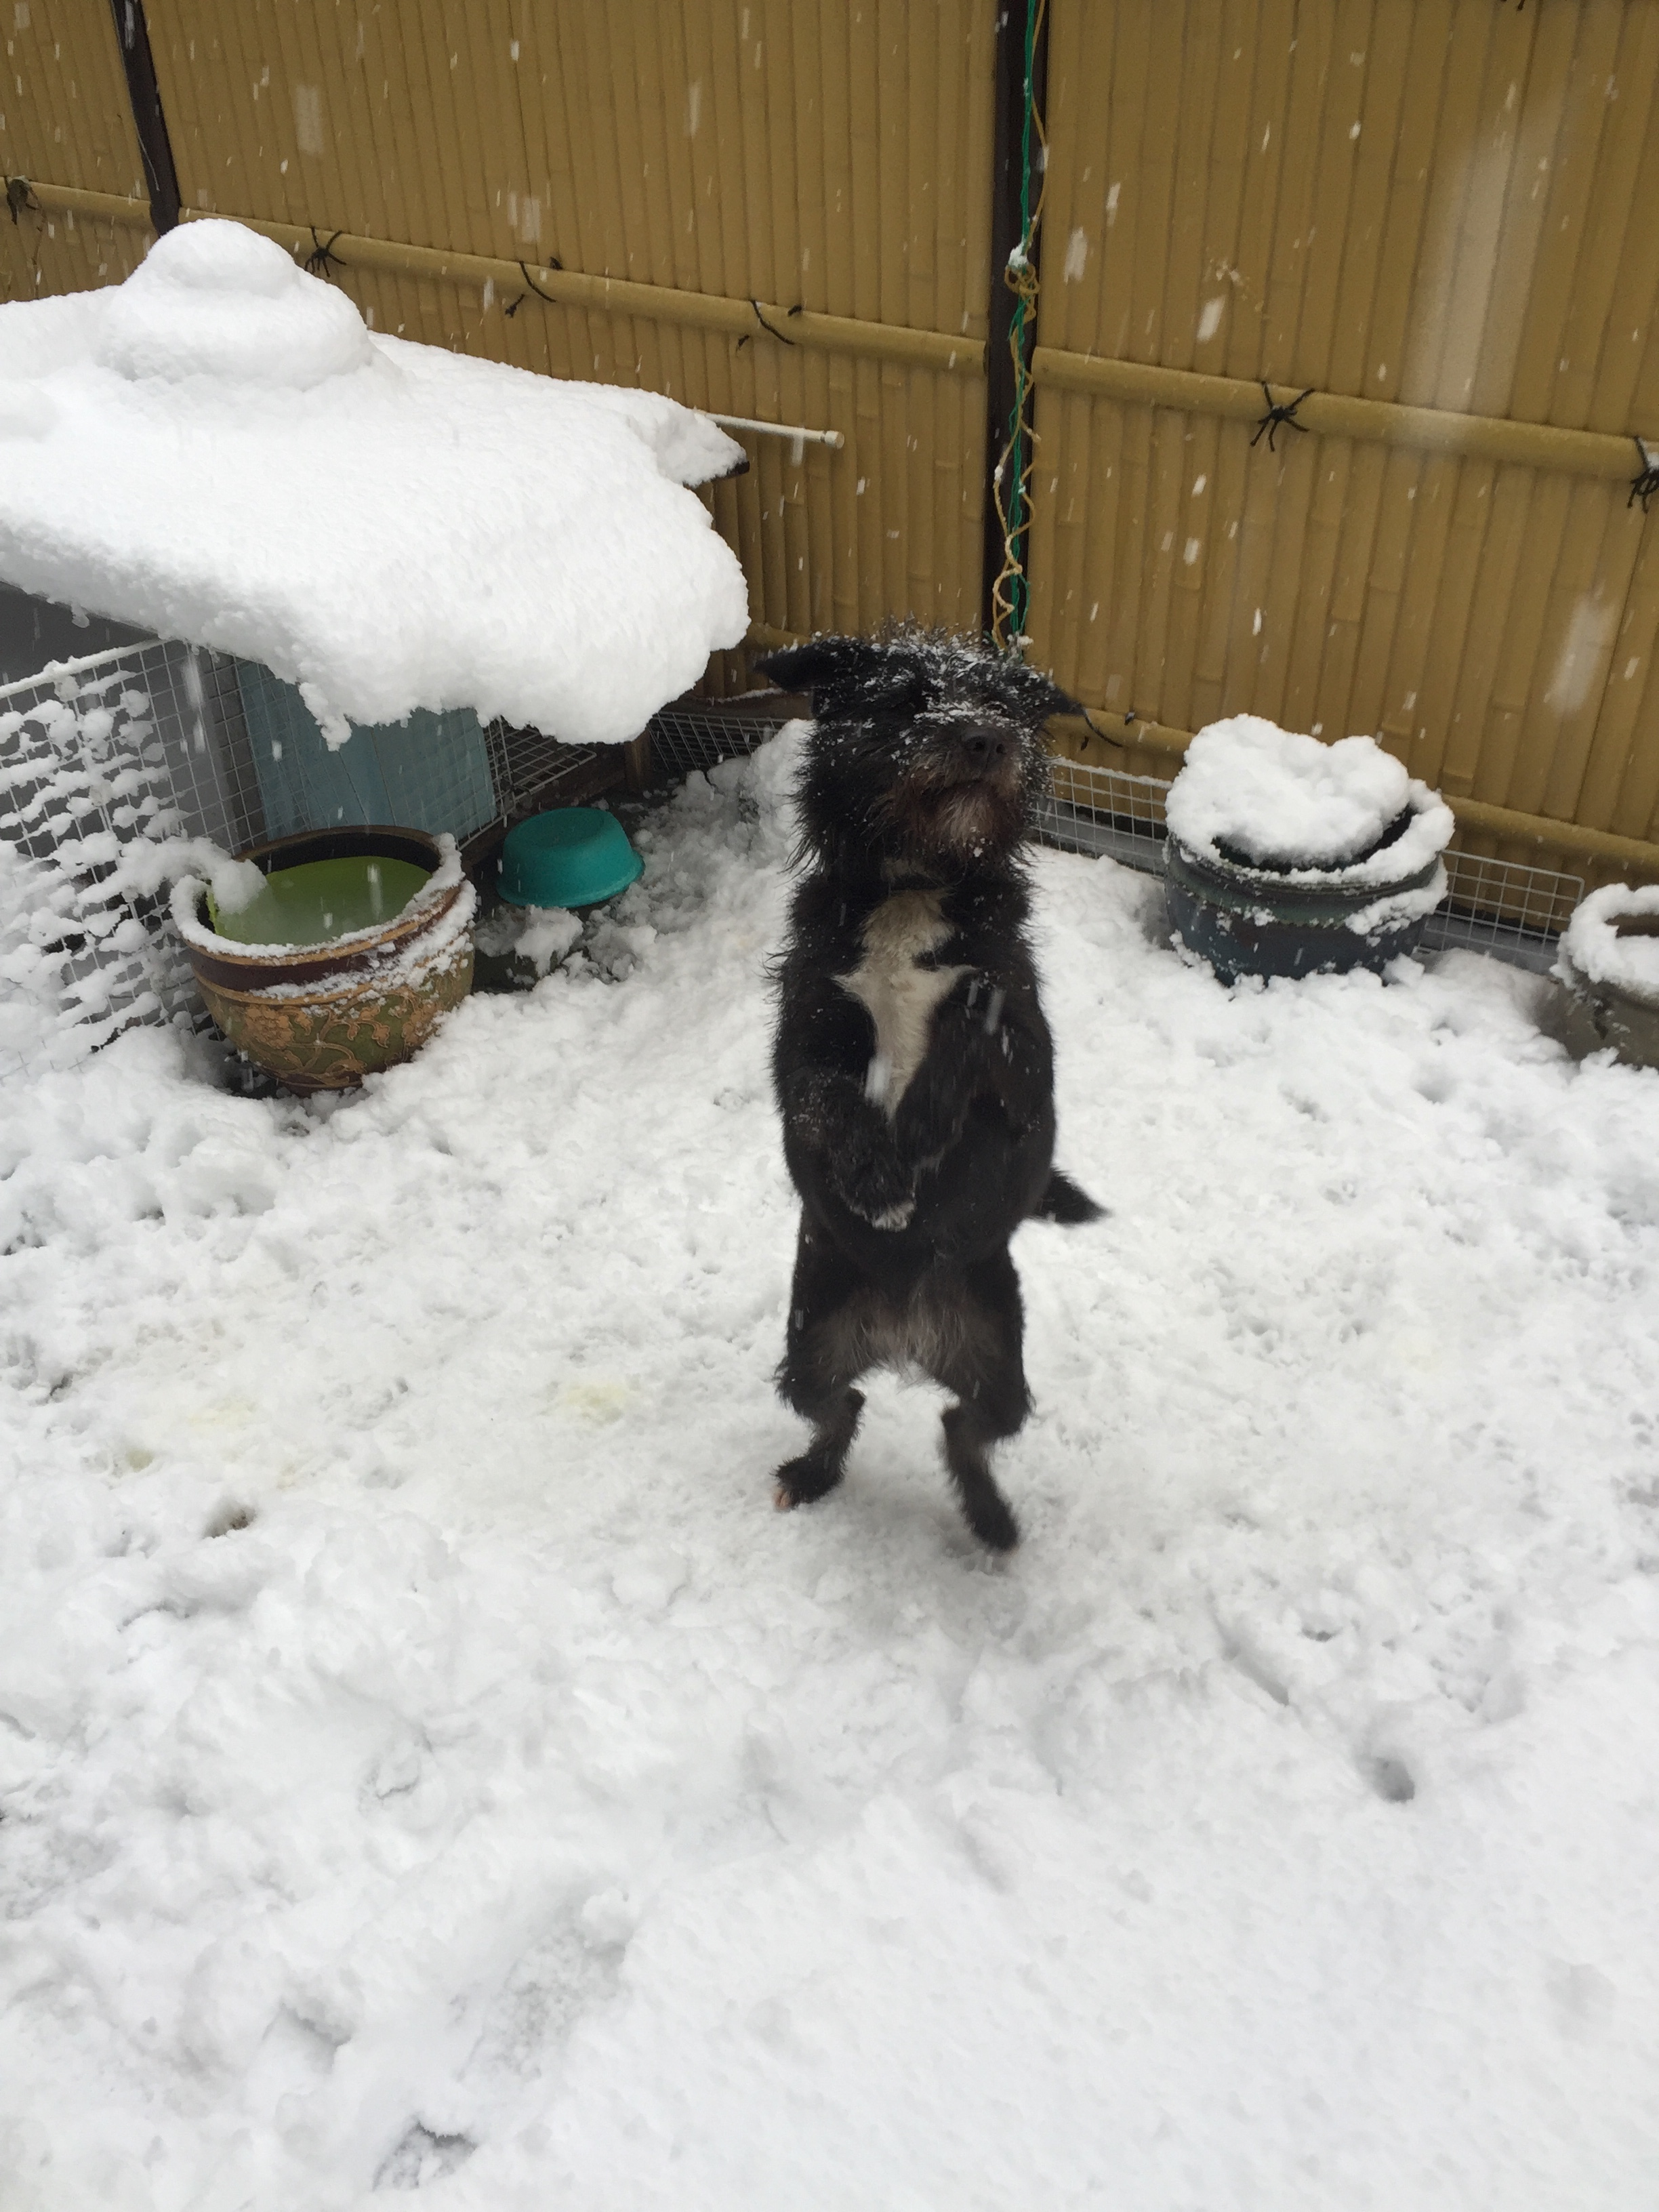dog: (753, 631, 1108, 1561)
